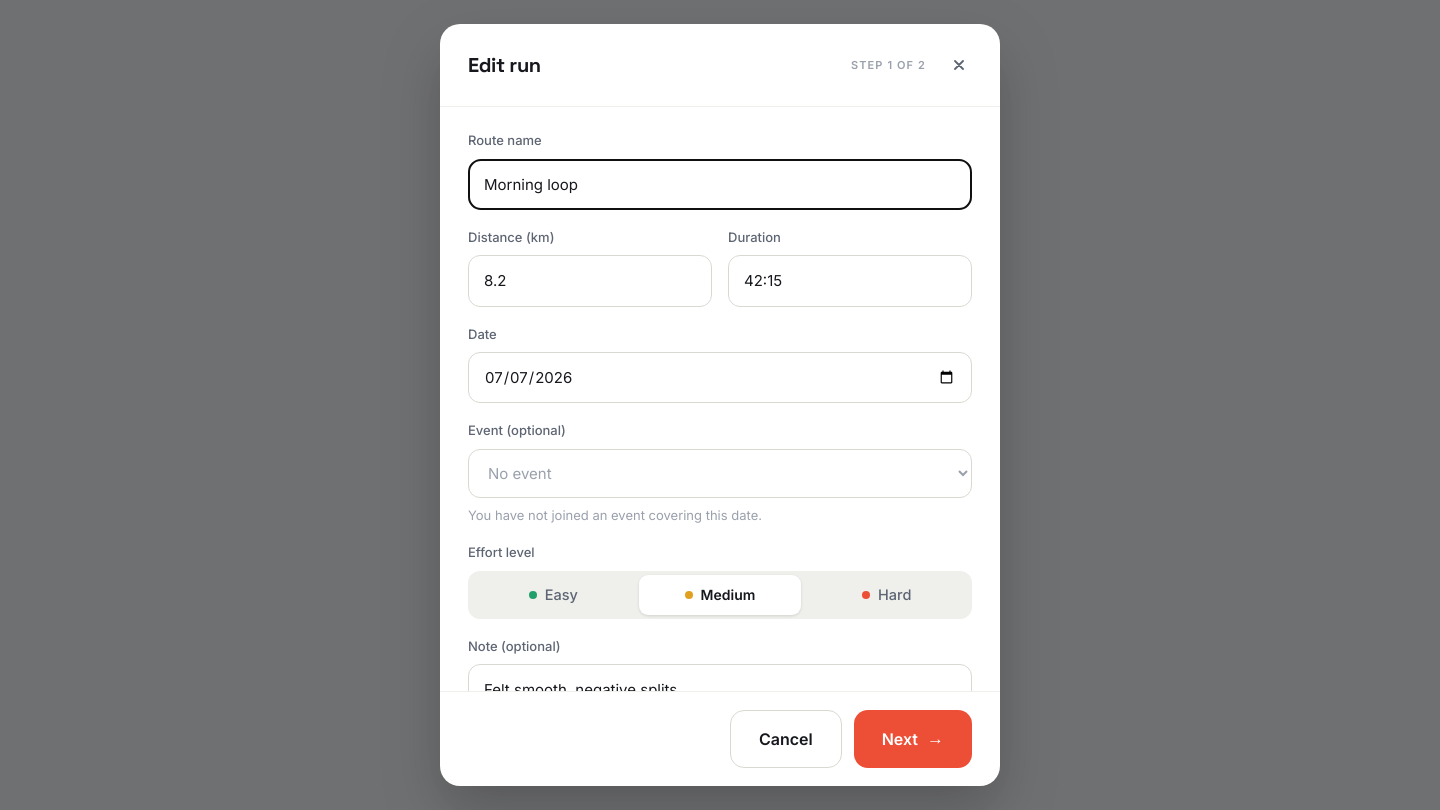
Test: Edit run modal (RUN-28) › refuses to save duration 0 and says so inline (AC4, EDT-3)
Replace the text in the field labelled "Duration" with "0:00": [850, 281] box [728,255,972,307]
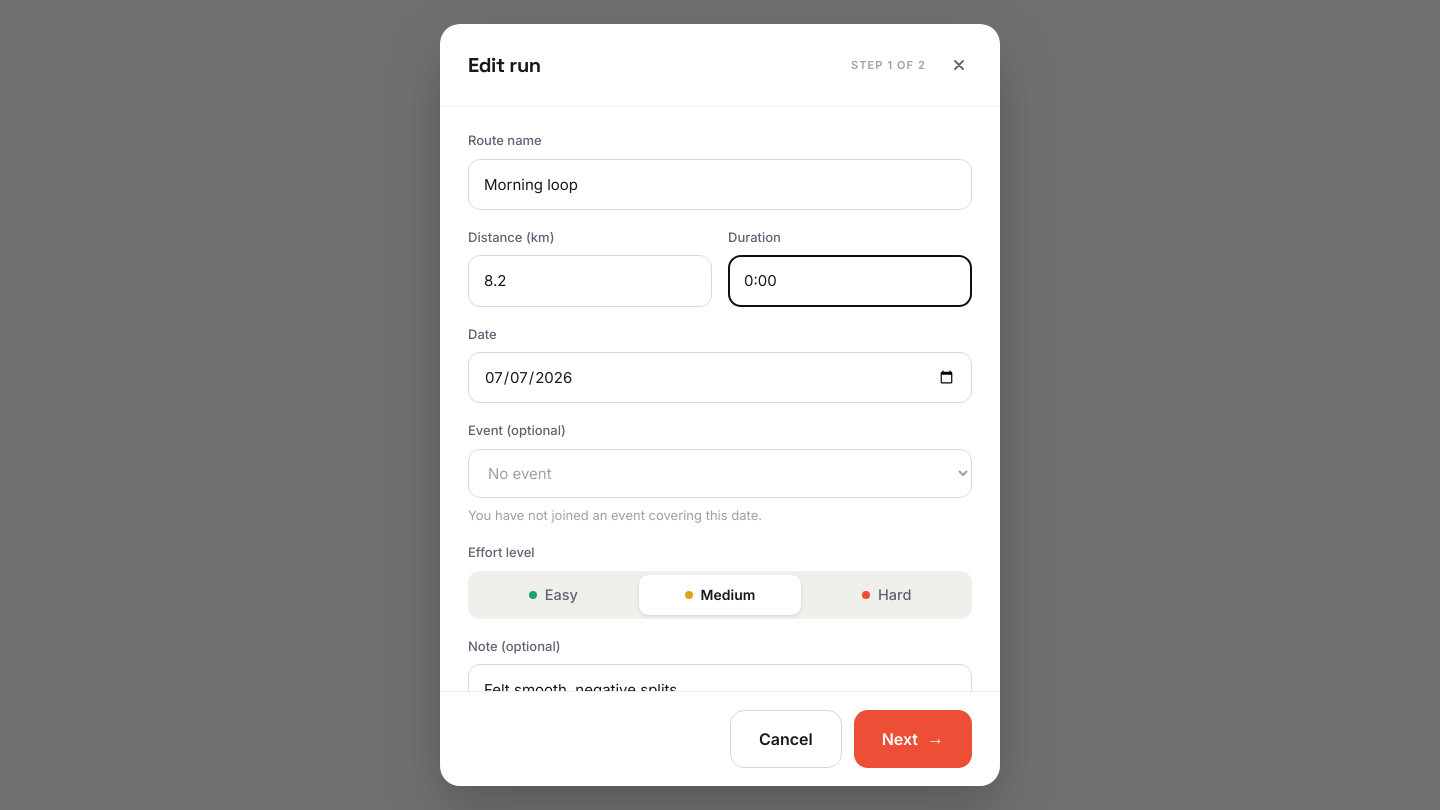
Click the button "Next →": [913, 739] box [854,710,972,768]
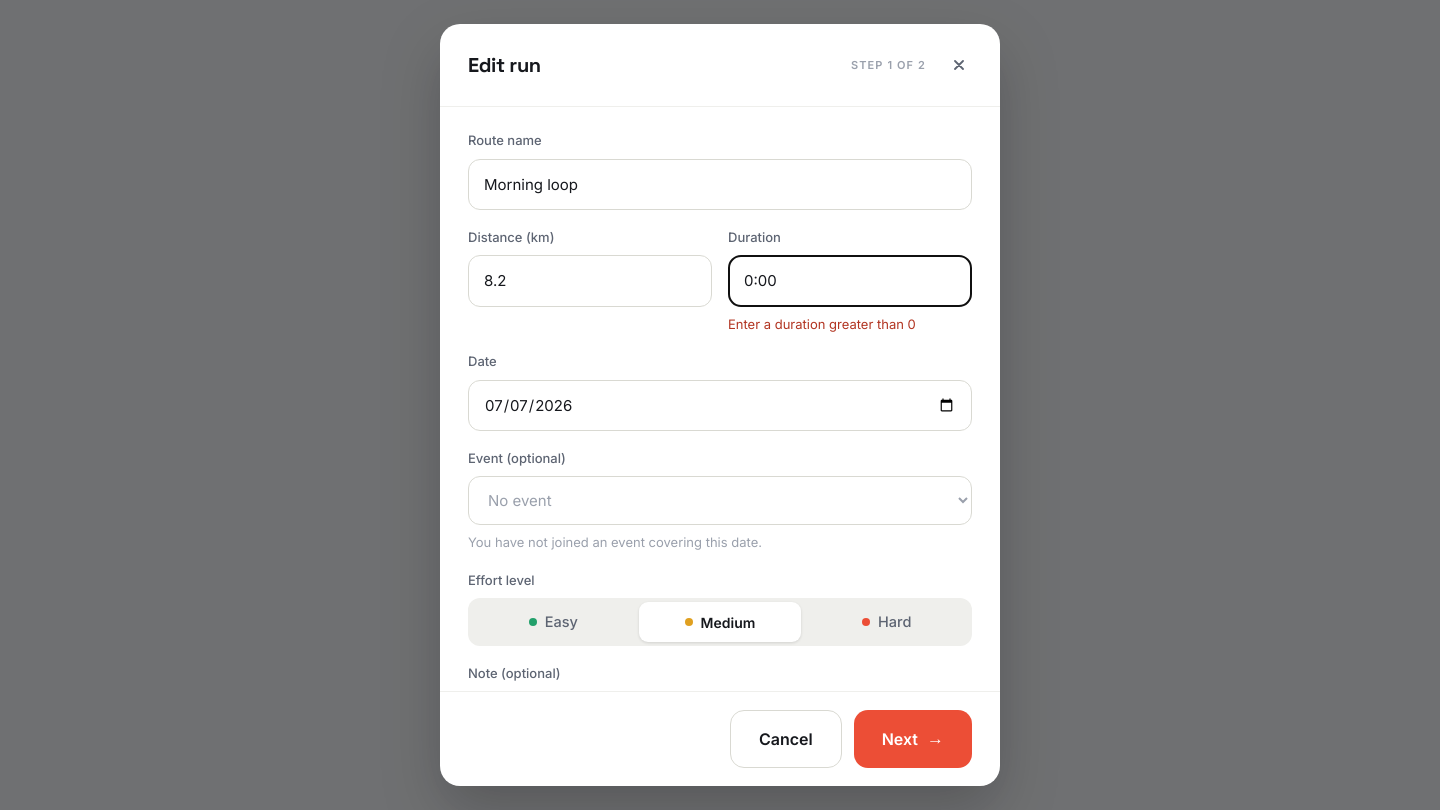
Now the message "Enter a duration greater than 0" is shown, box [728,316,916,332]
